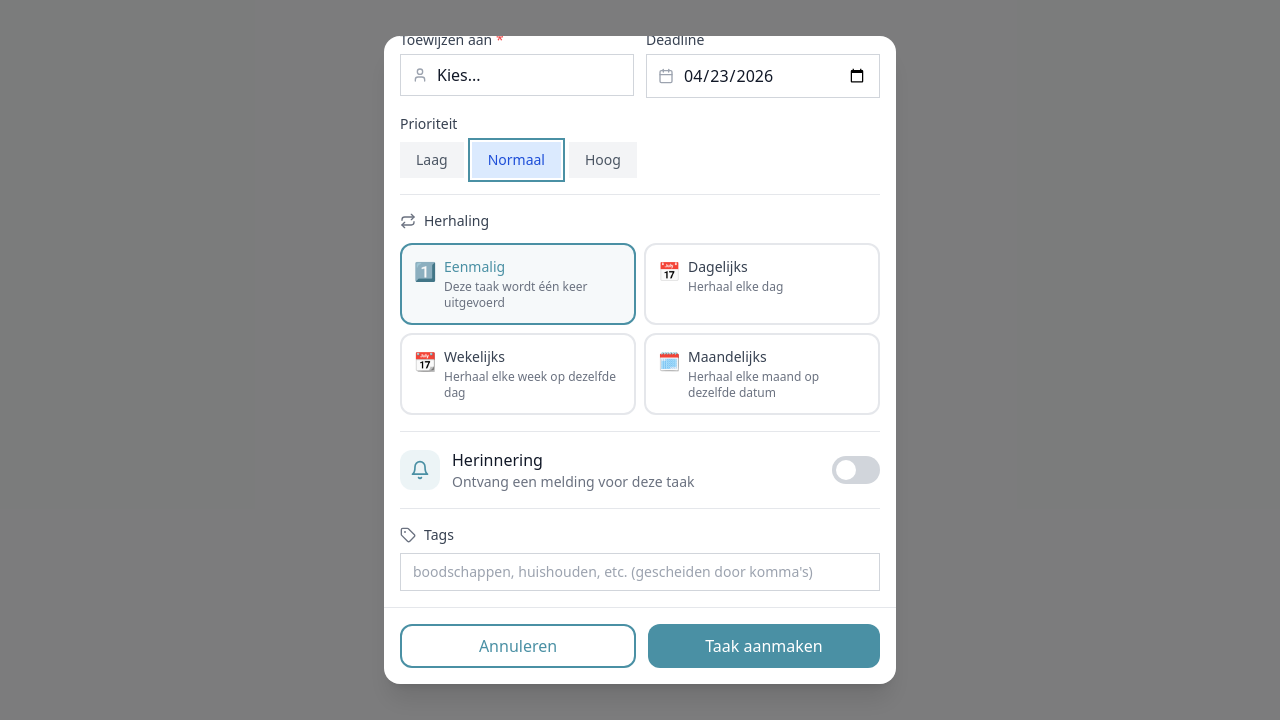
Test: TaskModal › should show validation error for empty title
(page scrolled)
Click the button "Taak aanmaken" at (764, 646), box [648,624,880,668]
(page scrolled)
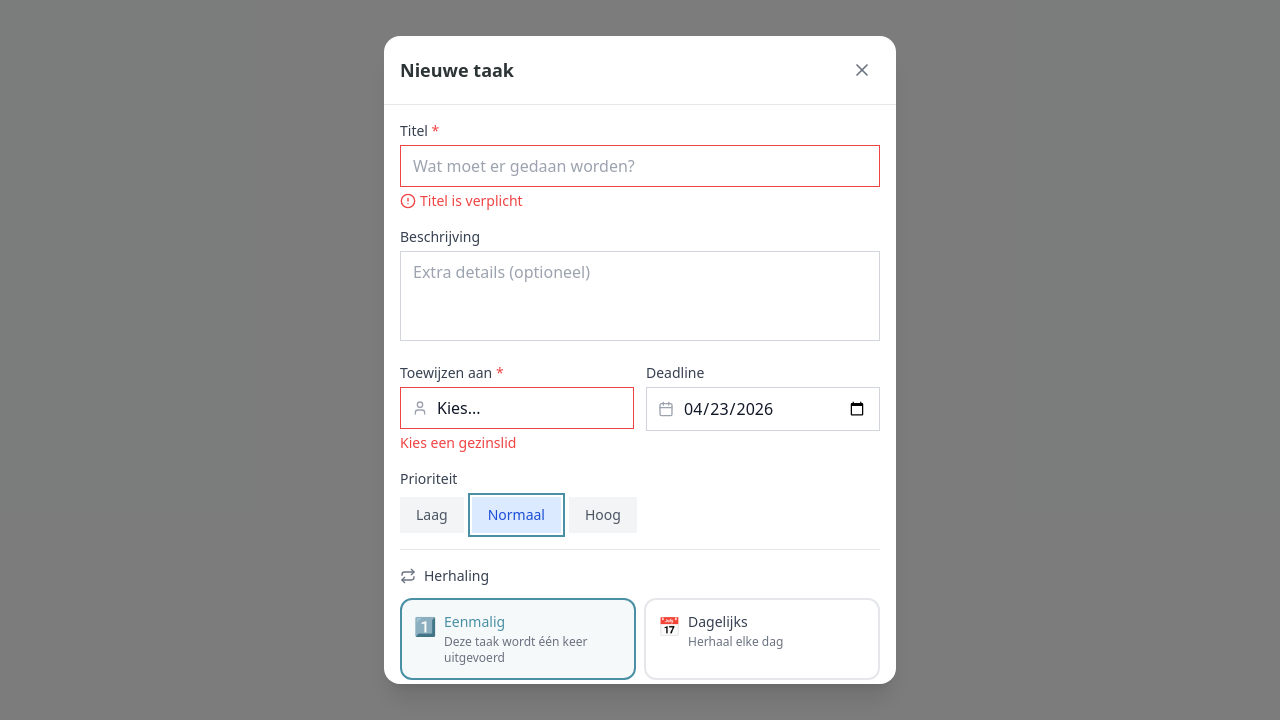
Check: the text "Titel is verplicht" is shown, box [400,191,523,210]
